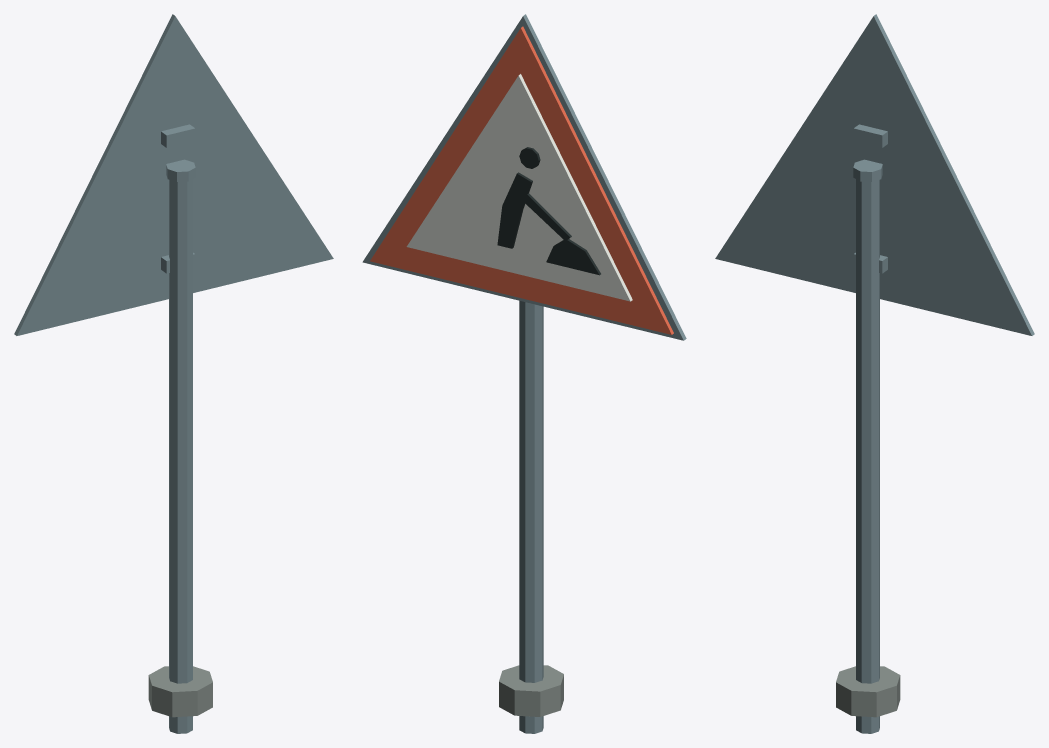
File: sm_env_sign_roadworks.glb
3 renders of one model, left to right at view 1: azimuth 30°, elevation 25°; view 2: azimuth 150°, elevation 25°; view 3: azimuth 330°, elevation 25°, orthographic.
Parts seen in each view (by area): view 1: SignBack, SignPost, PostBase, SignBracket.001, PostCap; view 2: SignPanel, SignBorder, SignPost, SignBack, PostBase, WorkerBody, Pile, Shovel; view 3: SignBack, SignPost, PostBase, SignBracket.001, PostCap.
Boxes of the visible parts, x1,y1,x2,y2 form: SignBack: [14, 14, 333, 335]; SignPost: [169, 179, 192, 733]; PostBase: [148, 666, 212, 717]; SignBracket.001: [161, 124, 195, 147]; PostCap: [166, 159, 195, 181]; SignPanel: [406, 74, 632, 301]; SignBorder: [370, 26, 673, 334]; SignPost: [519, 300, 543, 733]; SignBack: [362, 14, 686, 340]; PostBase: [499, 665, 563, 716]; WorkerBody: [497, 172, 532, 248]; Pile: [546, 239, 600, 275]; Shovel: [522, 193, 571, 240]; SignBack: [715, 14, 1034, 335]; SignPost: [856, 179, 879, 733]; PostBase: [836, 666, 900, 717]; SignBracket.001: [853, 124, 887, 147]; PostCap: [853, 159, 882, 181].
Size of the model in its own units: 1.32 by 2.82 by 0.24.
